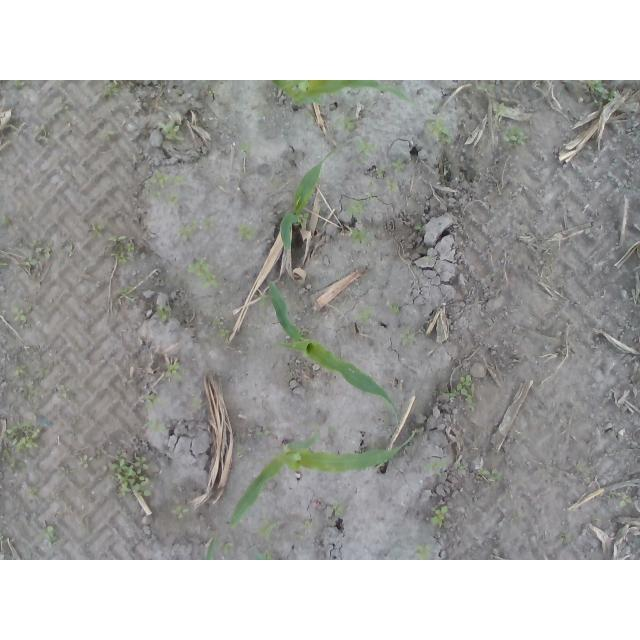Maize: (267, 280, 400, 425), (229, 430, 415, 533), (280, 152, 332, 252), (270, 80, 411, 110), (204, 536, 220, 560)
Weeds: (0, 420, 42, 476), (111, 448, 156, 497), (15, 362, 50, 400), (185, 256, 224, 288), (456, 374, 479, 412), (425, 117, 456, 145), (344, 192, 377, 217), (110, 235, 135, 266), (351, 136, 378, 161), (158, 119, 185, 142), (587, 80, 609, 108), (145, 174, 186, 188), (161, 358, 183, 384), (497, 127, 527, 146), (478, 466, 510, 482), (350, 228, 374, 249), (208, 318, 232, 338), (352, 306, 377, 325), (255, 519, 280, 538), (335, 115, 359, 134), (31, 240, 57, 257), (40, 525, 59, 546), (236, 223, 257, 241), (495, 102, 514, 121), (612, 490, 632, 508), (431, 504, 449, 524), (147, 416, 168, 432), (399, 329, 418, 346), (95, 128, 115, 144), (89, 223, 106, 241), (154, 306, 172, 323), (415, 544, 433, 561), (144, 393, 160, 412), (432, 387, 456, 399), (175, 224, 193, 240), (424, 460, 448, 472), (104, 80, 122, 96), (171, 505, 190, 520), (385, 177, 402, 193), (11, 303, 26, 321), (56, 465, 71, 482), (390, 159, 406, 174), (56, 384, 71, 400), (78, 455, 94, 470), (201, 215, 215, 232), (330, 502, 344, 517), (38, 128, 50, 145), (513, 510, 528, 522), (254, 552, 273, 561), (388, 303, 400, 316), (298, 327, 313, 337), (481, 83, 495, 93), (300, 214, 312, 225), (24, 256, 36, 267), (117, 287, 130, 297), (24, 488, 38, 497), (240, 142, 251, 153), (0, 215, 12, 225), (222, 542, 232, 553), (234, 447, 244, 458), (414, 224, 426, 233), (207, 87, 217, 97), (191, 399, 201, 409), (608, 91, 617, 102), (150, 192, 161, 201), (303, 519, 312, 529), (327, 425, 337, 434), (167, 195, 177, 204), (15, 80, 26, 88), (197, 80, 207, 88), (255, 431, 271, 436), (375, 168, 383, 177), (457, 464, 466, 472), (319, 207, 327, 215), (1, 260, 8, 268), (281, 340, 289, 345)
